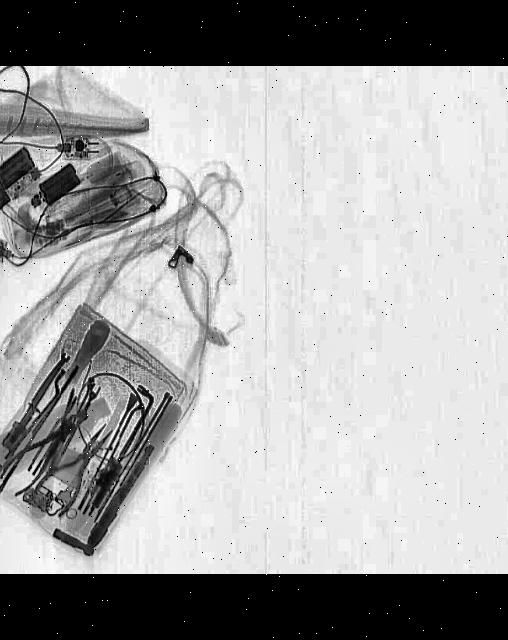Pliers: (27, 415, 129, 519), (0, 406, 89, 499)
